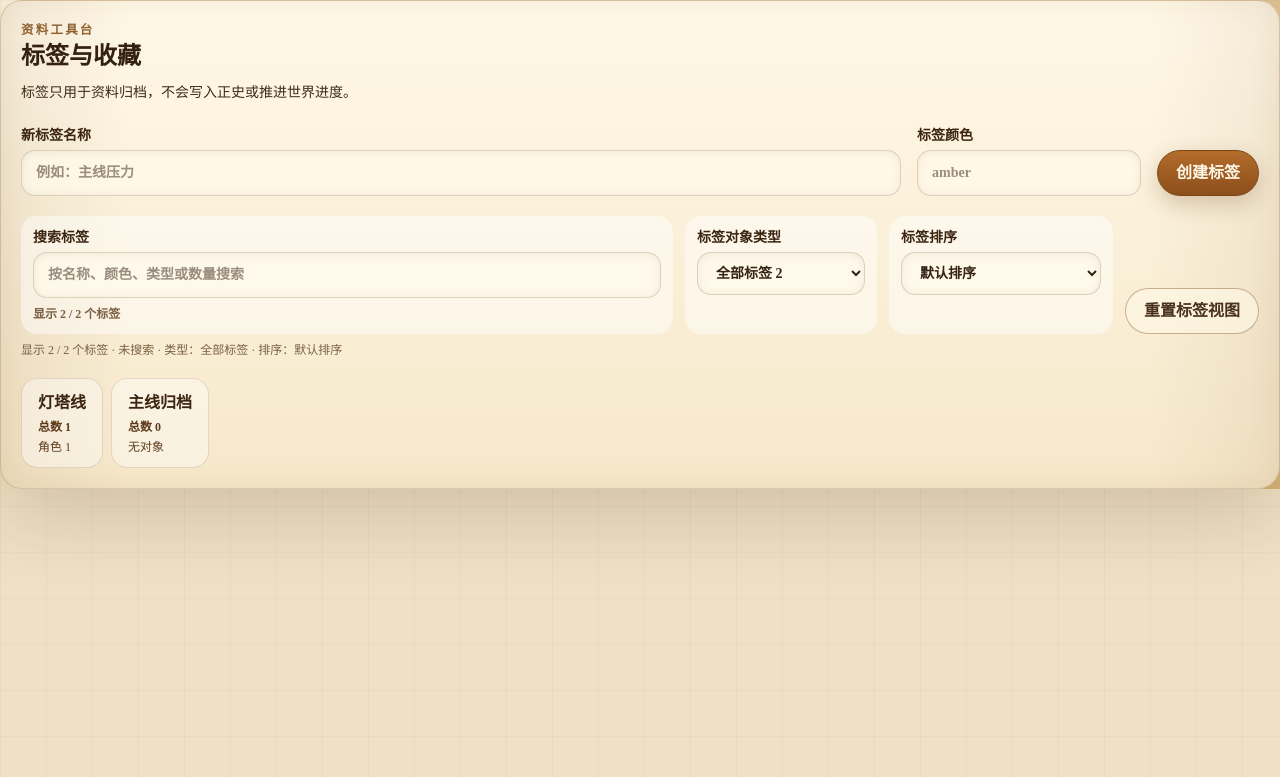
Test: WorldTagsPanel › resets pending tag deletion when loading another tag
expect the text "灯塔线" is shown: met, box [38,391,86,415]
Click the button with aria-label "查看 灯塔线" at (62, 423), box [21,378,103,468]
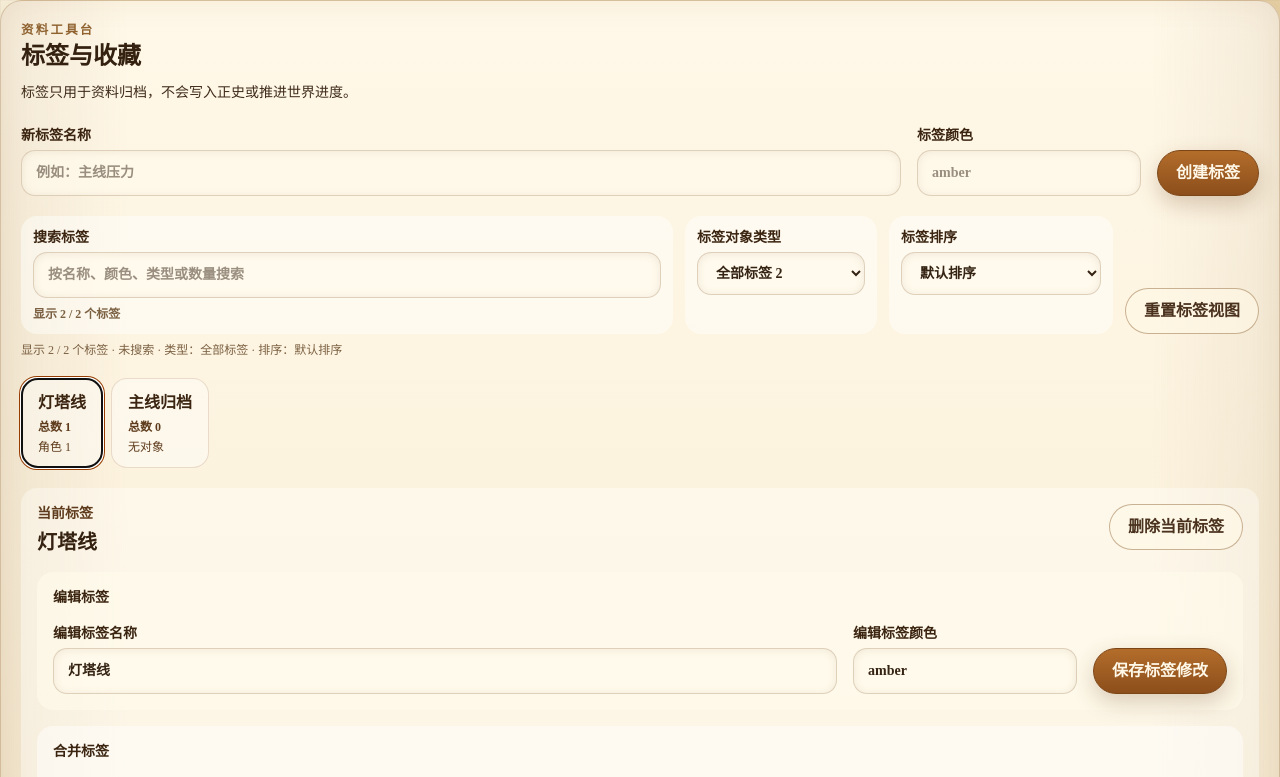
Click the button "删除当前标签" at (1176, 527), box [1109,504,1243,550]
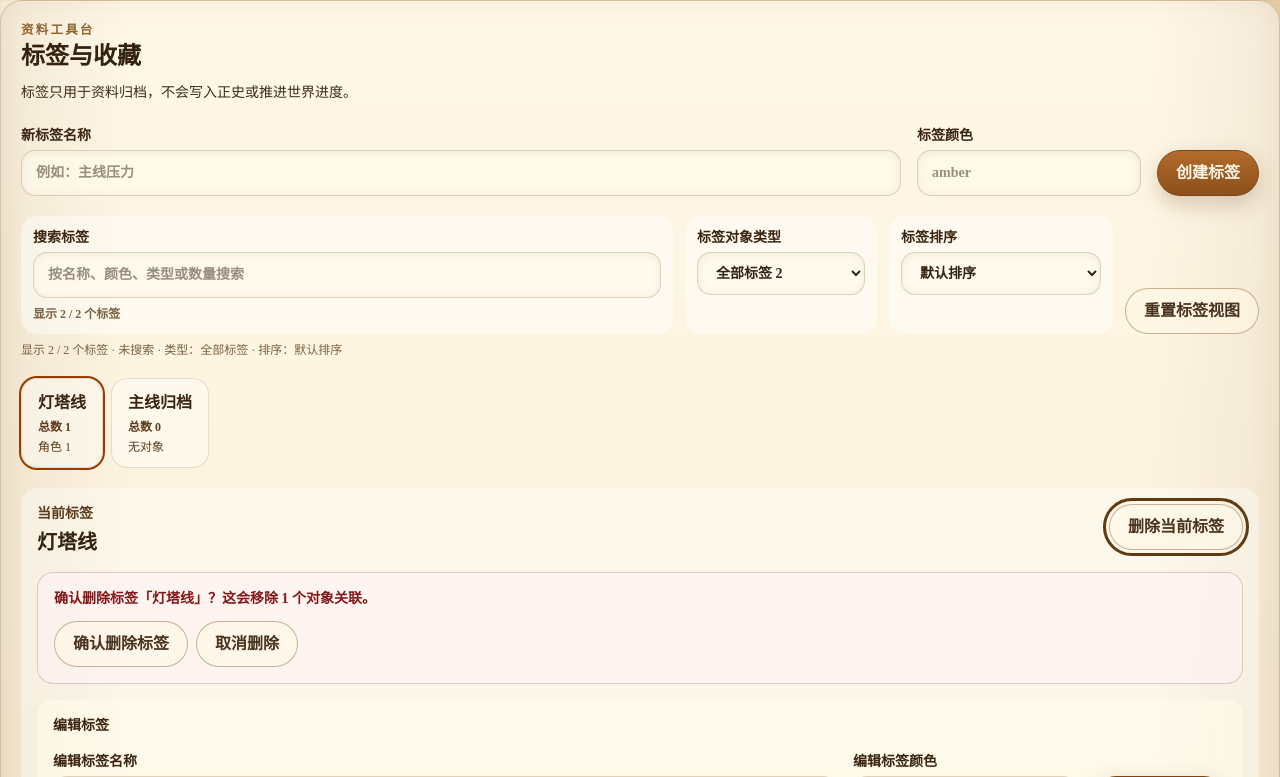
expect the text "确认删除标签「灯塔线」？这会移除 1 个对象关联。" is shown: met, box [54,591,376,606]
Click the button with aria-label "查看 主线归档" at (160, 423), box [111,378,209,468]
(page scrolled)
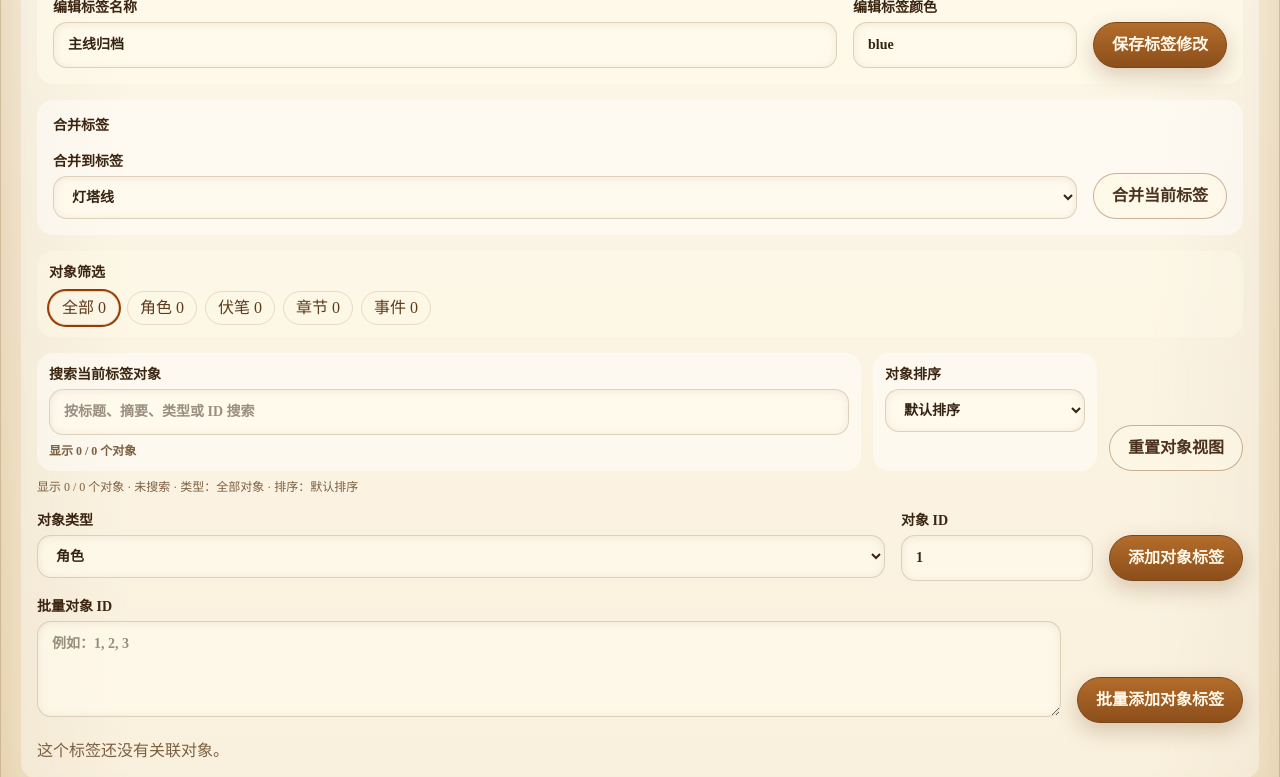
expect the text "这个标签还没有关联对象。" is shown: met, box [37,742,229,759]
expect the text "确认删除标签「灯塔线」？这会移除 1 个对象关联。" is gone: met
